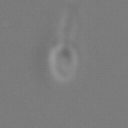abnormal: (50, 1, 92, 44)
